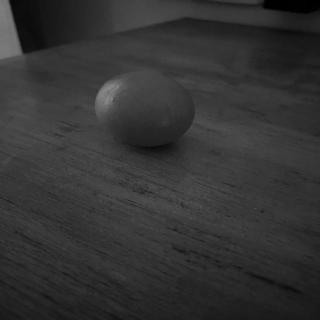Telur: (91, 70, 197, 149)
